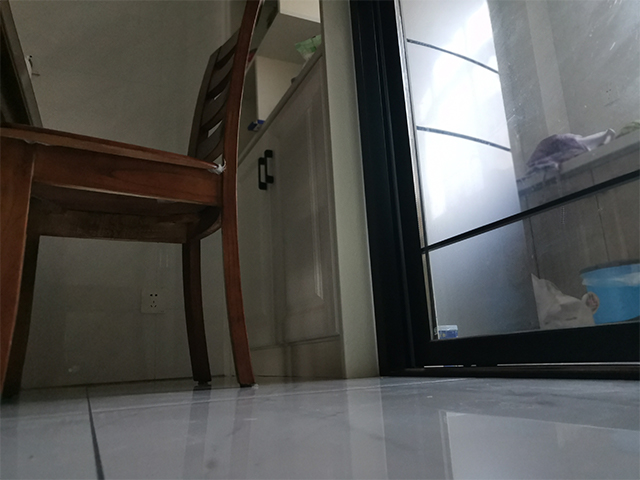cabinet: (240, 46, 396, 383)
stool: (1, 1, 266, 402)
trashcan: (577, 257, 640, 327)
